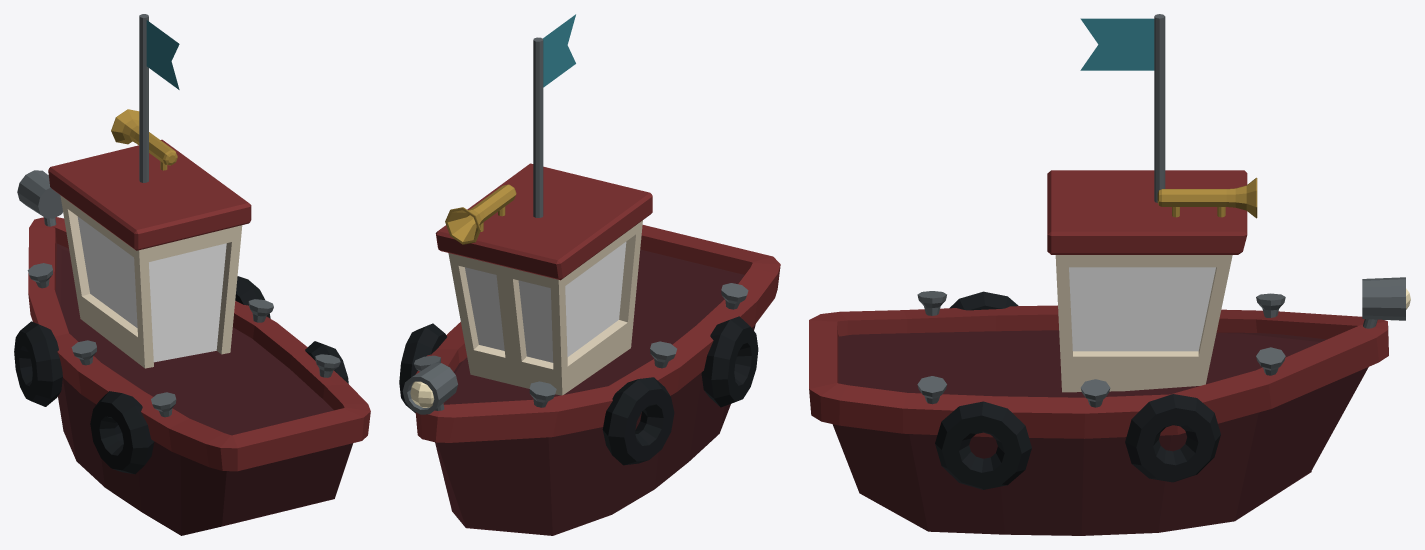
The model's file is boat.glb.
The picture shows the model from 3 angles, left to right: view 1: azimuth 30°, elevation 25°; view 2: azimuth 150°, elevation 25°; view 3: azimuth 270°, elevation 25°; orthographic projection. The views are drawn at different scales.
Parts seen in each view (by area): view 1: Plane.005, Cube, Plane.002, Cube.001, Torus.001, Torus, Cylinder.008, Cylinder, Plane, Cylinder.005, Cylinder.004, Cylinder.003 (+1 smaller); view 2: Plane.005, Cube, Plane.002, Cube.001, Torus, Torus.001, Cylinder.008, Cylinder.005, Cylinder, Plane, Cylinder.002, Cylinder.003 (+2 smaller); view 3: Plane.005, Plane.002, Cube, Cube.001, Torus.001, Torus, Plane, Cylinder.008, Cylinder.005, Cylinder, Cylinder.004, Cylinder.002.
Boxes of the visible parts, <box> form: Plane.005: <box>55,243,353,535</box>; Cube: <box>60,195,242,368</box>; Plane.002: <box>28,217,370,471</box>; Cube.001: <box>48,139,251,250</box>; Torus.001: <box>90,341,348,474</box>; Torus: <box>14,276,270,406</box>; Cylinder.008: <box>139,14,148,182</box>; Cylinder: <box>17,170,62,218</box>; Plane: <box>146,20,179,89</box>; Cylinder.005: <box>111,109,177,165</box>; Cylinder.004: <box>151,354,340,417</box>; Cylinder.003: <box>71,299,273,365</box>; Plane.005: <box>435,249,755,535</box>; Cube: <box>448,220,642,395</box>; Plane.002: <box>415,225,780,442</box>; Cube.001: <box>435,163,652,280</box>; Torus: <box>399,323,674,465</box>; Torus.001: <box>701,316,758,407</box>; Cylinder.008: <box>533,37,543,217</box>; Cylinder.005: <box>445,184,516,244</box>; Cylinder: <box>402,363,457,414</box>; Plane: <box>543,14,575,87</box>; Cylinder.002: <box>414,355,556,407</box>; Cylinder.003: <box>650,341,676,368</box>; Plane.005: <box>832,330,1368,535</box>; Plane.002: <box>809,305,1388,438</box>; Cube: <box>1055,255,1232,392</box>; Cube.001: <box>1047,170,1247,254</box>; Torus.001: <box>935,291,1031,489</box>; Torus: <box>1125,394,1220,482</box>; Plane: <box>1080,18,1154,70</box>; Cylinder.008: <box>1154,14,1165,202</box>; Cylinder.005: <box>1157,177,1257,218</box>; Cylinder: <box>1362,277,1405,320</box>; Cylinder.004: <box>917,291,946,404</box>; Cylinder.002: <box>1256,293,1285,375</box>.
Bounding box in the file's own units: 0.5659 × 0.9907 × 1.13.
